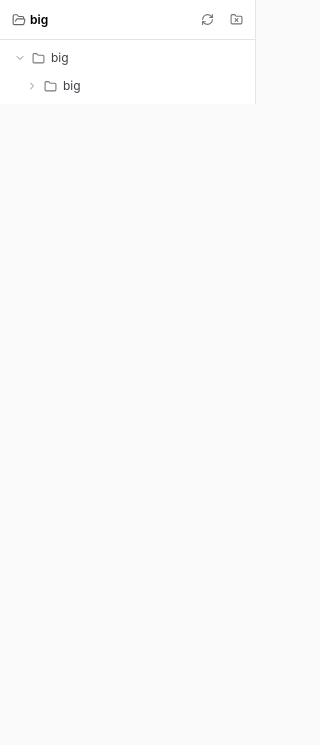
Test case: FileTreeSidebar 大目录窗口化渲染 › 只渲染视口切片，总高撑开，滚动后窗口平移
This screenshot has width=320, height=745.
Click the 2nd button titled "C:/big/big": {"x": 128, "y": 86} [6,72,249,100]
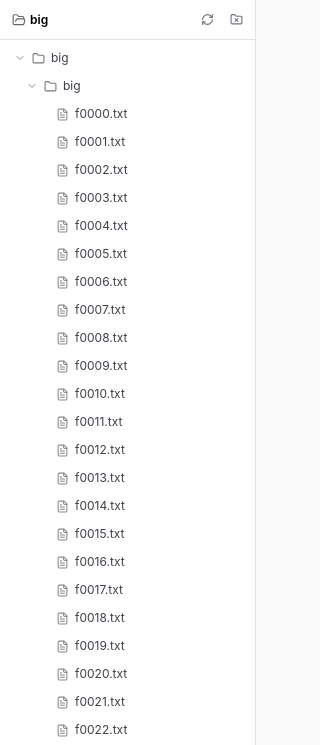
expect the number of buttons with class "heid-tree-row" is 30: met
